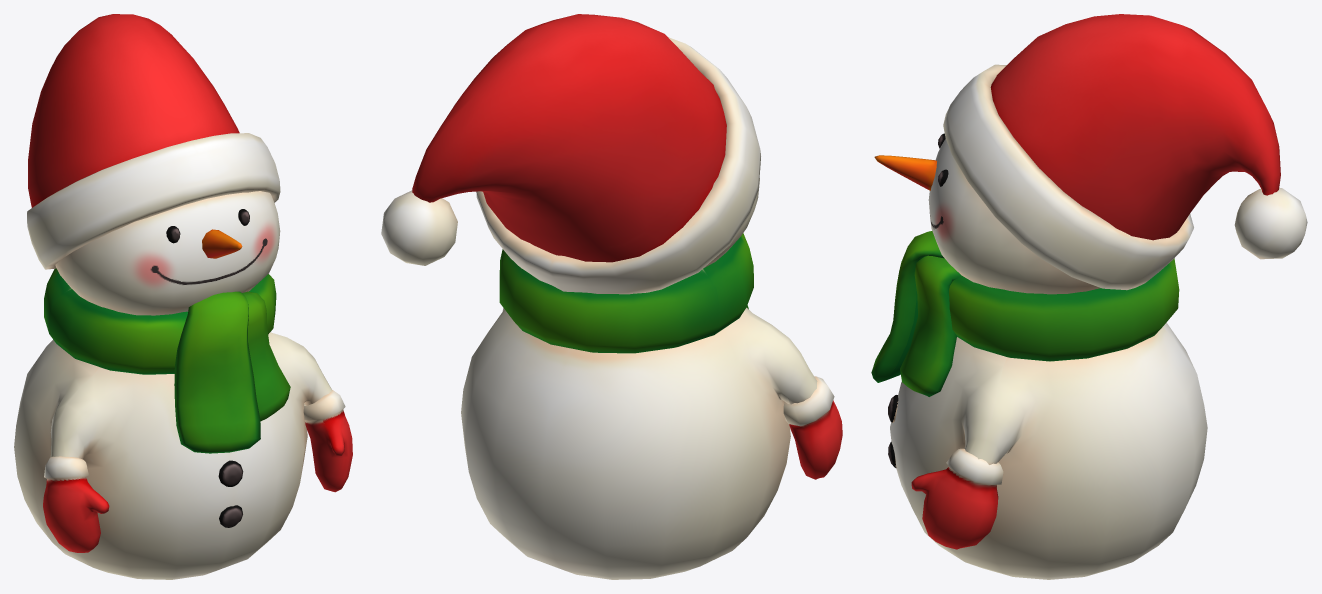
File: ShengDanXueRen.FBX
3 renders of one model, left to right at view 1: azimuth 30°, elevation 25°; view 2: azimuth 150°, elevation 25°; view 3: azimuth 270°, elevation 25°, orthographic. The views are drawn at different scales.
Visible parts, largest first — view 1: ShengDanXueRen; view 2: ShengDanXueRen; view 3: ShengDanXueRen.
Part boxes in pixels (x1,y1,x2,y2): ShengDanXueRen: [14, 14, 352, 579]; ShengDanXueRen: [381, 14, 842, 579]; ShengDanXueRen: [871, 14, 1307, 579].
Size of the model in its own units: 72.6 by 115 by 85.02.
1 material, 1 textured.
